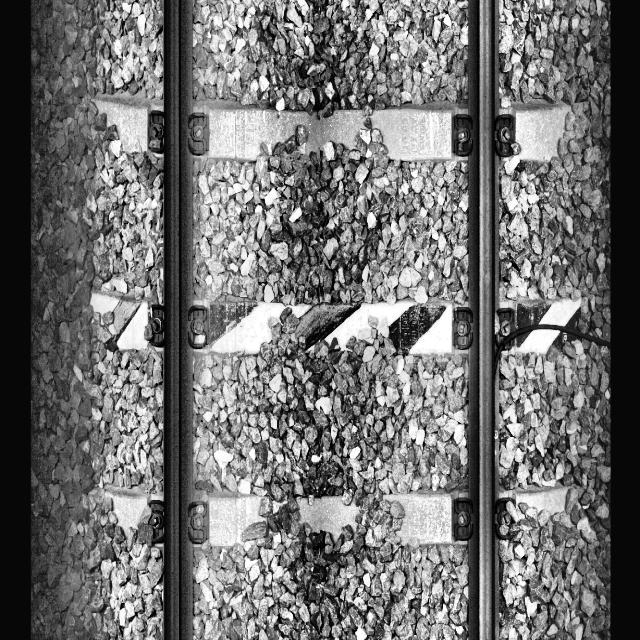Clips: (186, 112, 208, 157), (188, 304, 210, 349), (145, 303, 168, 346), (451, 497, 474, 540), (186, 500, 209, 542), (452, 307, 474, 350), (450, 114, 472, 156), (146, 110, 166, 152), (494, 114, 514, 154), (146, 499, 168, 535), (496, 498, 514, 540), (494, 308, 513, 344)
Sleepers: (89, 285, 584, 363), (93, 90, 573, 168), (101, 483, 574, 543)
